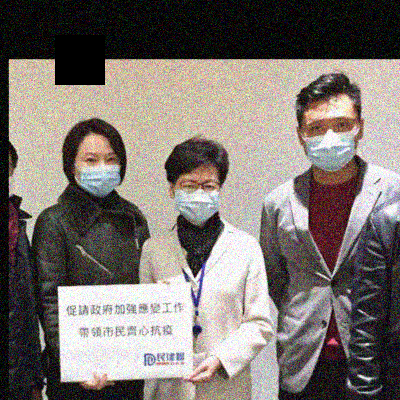with_mask: (299, 113, 360, 172), (173, 174, 221, 224), (74, 150, 123, 195)
